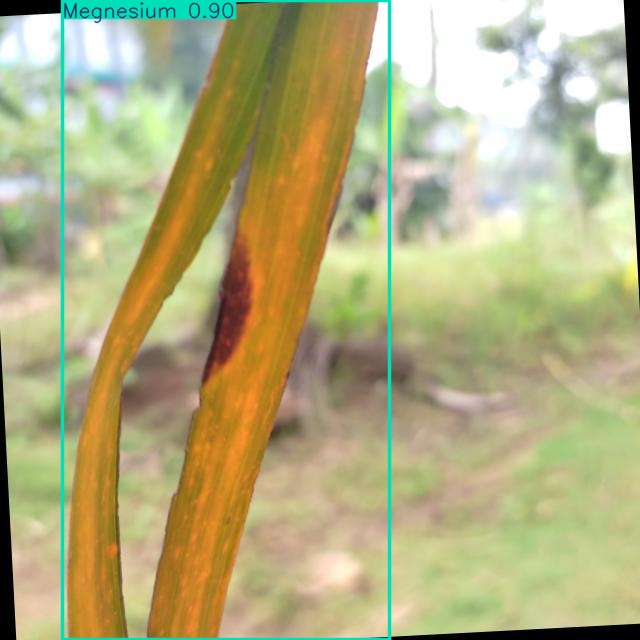Megnesium: (63, 0, 389, 639)
